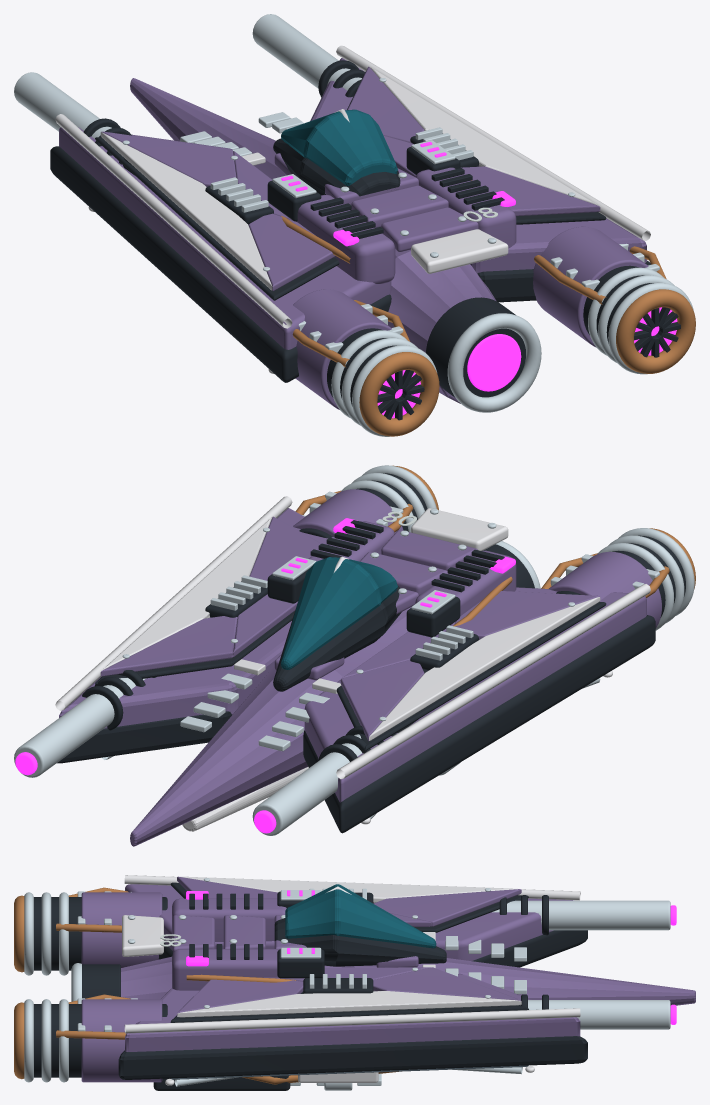
3 views of the same model, one above another, from view 1: azimuth 30°, elevation 25°; view 2: azimuth 150°, elevation 25°; view 3: azimuth 270°, elevation 25° (orthographic). The views are drawn at different scales.
Visible parts, largest first — view 1: SolidHull_08; view 2: SolidHull_08; view 3: SolidHull_08.
Boxes of the visible parts, x1,y1,x2,y2 form: SolidHull_08: [14, 14, 695, 436]; SolidHull_08: [14, 465, 695, 846]; SolidHull_08: [14, 875, 695, 1090].
Size of the model in its own units: 2.09 by 1.15 by 3.88.
